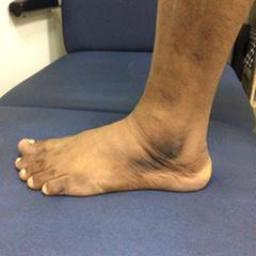Lateral View -Left Foot-: (8, 90, 223, 208)
